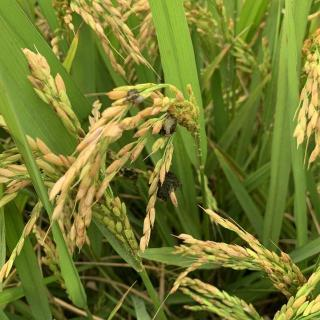Gosong-Palsu: (148, 169, 182, 202), (156, 114, 180, 136), (126, 87, 146, 107)
